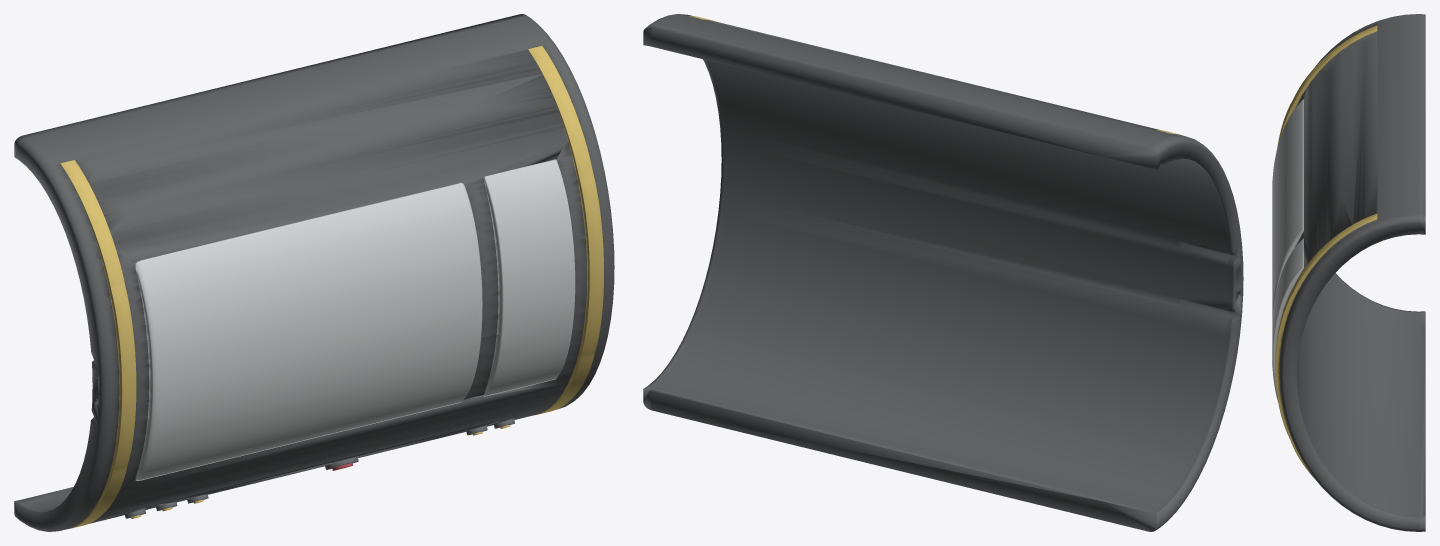
File: android.glb
The picture shows the model from 3 angles, left to right: view 1: azimuth 30°, elevation 25°; view 2: azimuth 150°, elevation 25°; view 3: azimuth 270°, elevation 25°; orthographic projection. The views are drawn at different scales.
Visible parts, largest first — view 1: Model; view 2: Model; view 3: Model.
Part boxes in pixels (x1,y1,x2,y2): Model: (14,14,614,531); Model: (643,14,1243,531); Model: (1272,14,1425,531).
Size of the model in its own units: 280 by 200 by 88.
